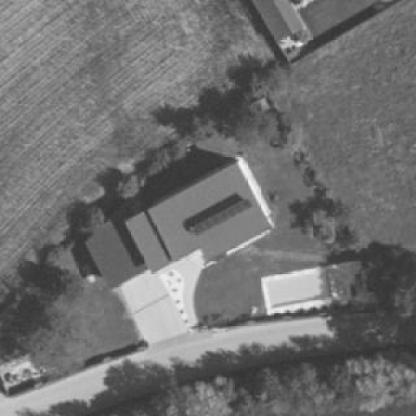solar-pv-panel: (191, 198, 251, 236)
